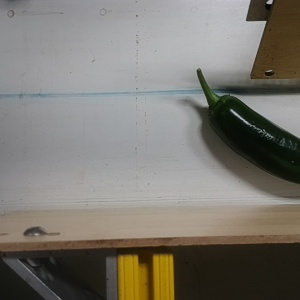Cut Point: (200, 90, 239, 128)
